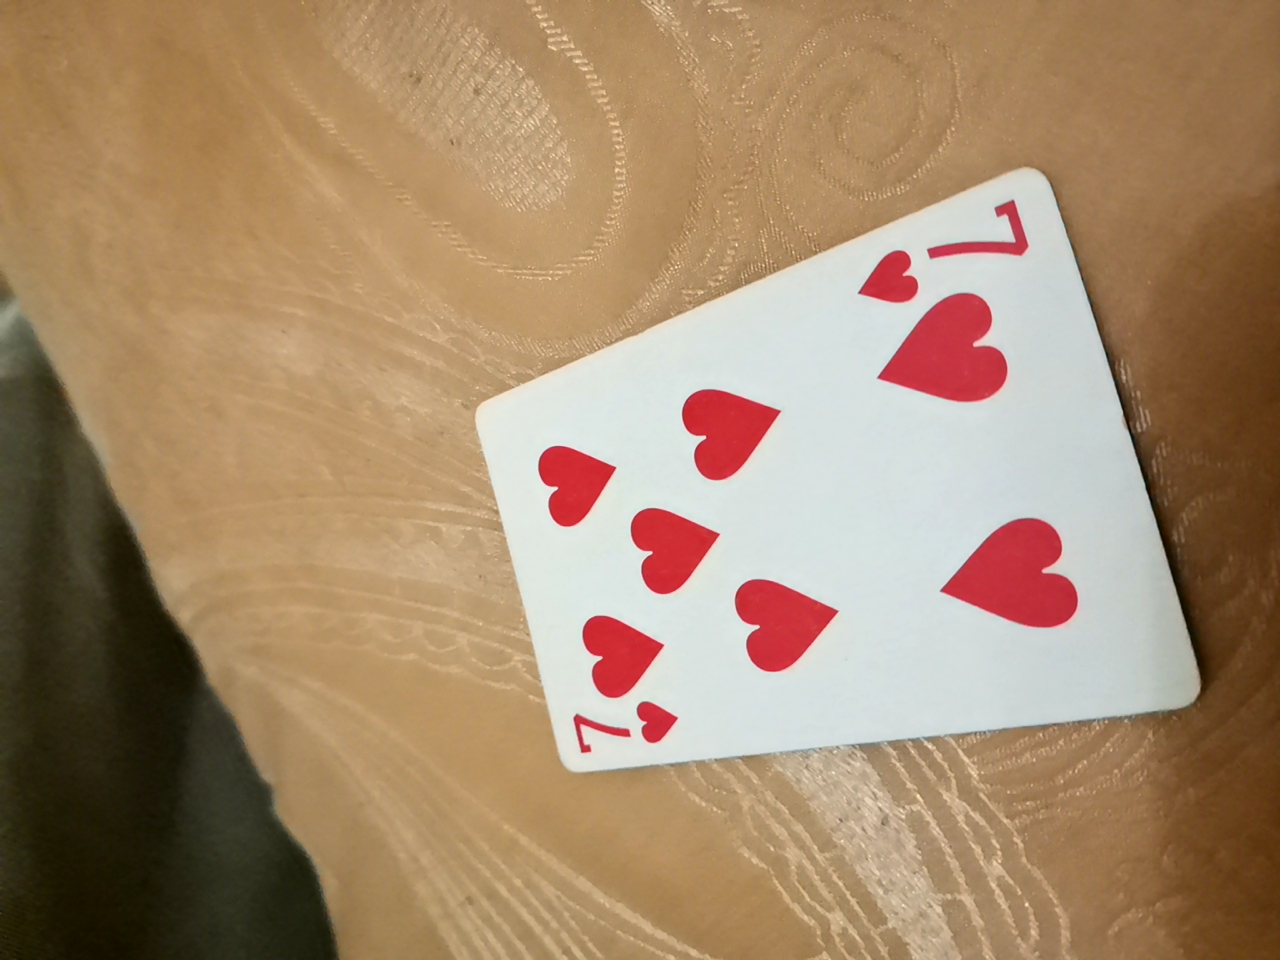hx 7: (423, 91, 1194, 715)
